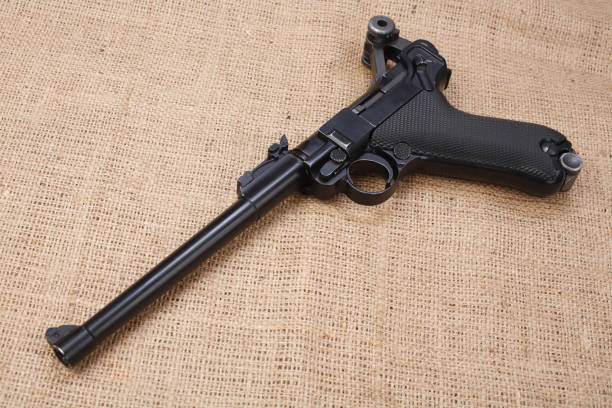gun: (42, 13, 583, 369)
